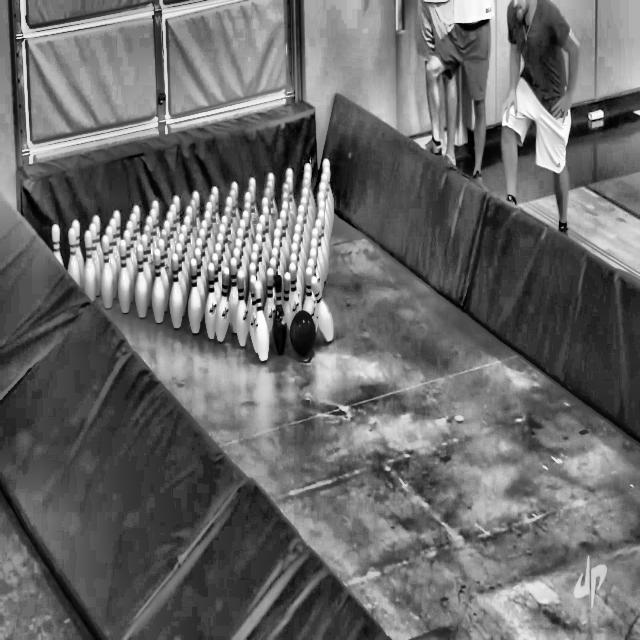bowling-ball: (290, 309, 316, 357)
bowling-pins: (187, 257, 202, 334), (215, 265, 230, 342), (273, 273, 287, 355), (255, 279, 269, 361), (235, 269, 249, 347), (169, 252, 183, 328), (151, 247, 165, 323), (117, 238, 131, 313), (204, 261, 217, 339), (82, 229, 96, 300), (134, 242, 147, 317), (175, 241, 188, 316), (100, 234, 113, 308), (157, 237, 170, 311), (105, 225, 118, 298), (122, 228, 135, 301), (70, 219, 84, 285), (264, 265, 276, 341), (89, 221, 101, 294), (140, 233, 152, 306), (228, 256, 239, 333), (194, 243, 206, 312), (67, 226, 81, 285), (247, 273, 257, 353), (89, 214, 103, 266), (289, 261, 301, 321), (303, 265, 315, 315), (283, 271, 292, 337), (51, 223, 62, 264), (209, 185, 219, 211), (192, 190, 199, 218), (230, 180, 238, 198), (267, 171, 274, 188), (248, 176, 256, 188)
